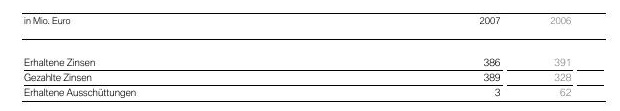table: (0, 0, 620, 111)
